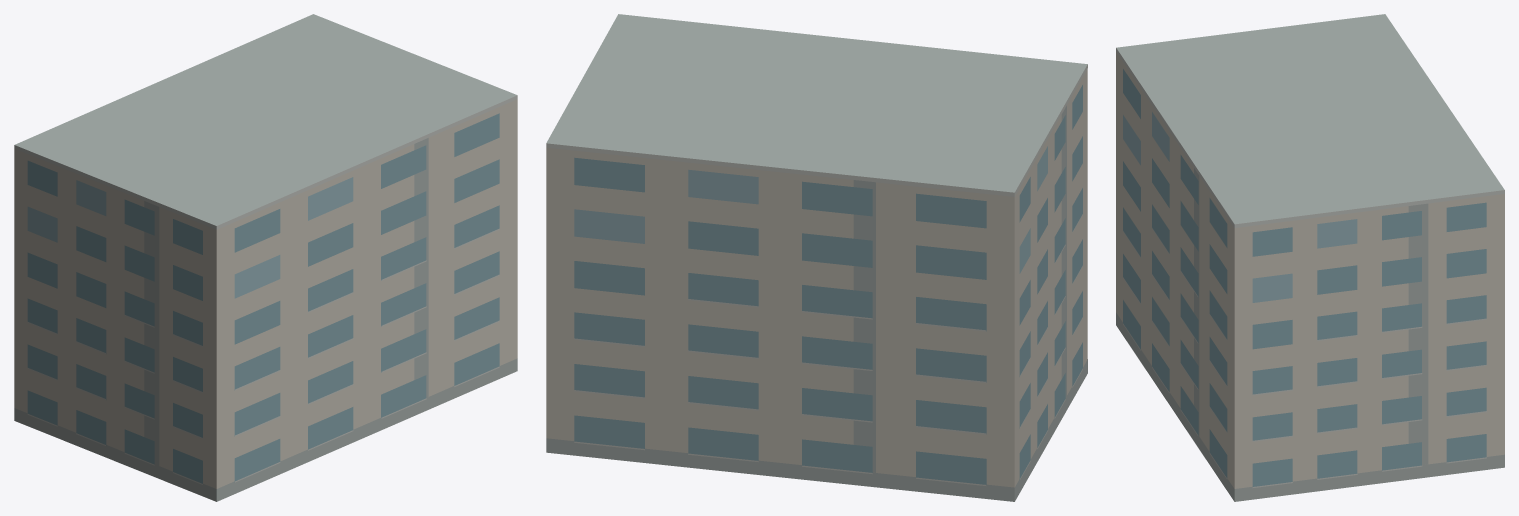
File: survey-upis-32863180.glb
The picture shows the model from 3 angles, left to right: view 1: azimuth 30°, elevation 25°; view 2: azimuth 150°, elevation 25°; view 3: azimuth 270°, elevation 25°; orthographic projection. The views are drawn at different scales.
Visible parts, largest first — view 1: survey-upis-32863180.tmp; view 2: survey-upis-32863180.tmp; view 3: survey-upis-32863180.tmp.
Boxes of the visible parts, x1,y1,x2,y2 form: survey-upis-32863180.tmp: (14, 14, 517, 501); survey-upis-32863180.tmp: (546, 14, 1087, 501); survey-upis-32863180.tmp: (1116, 14, 1504, 501).
Size of the model in its own units: 28.94 by 17.8 by 22.6.
